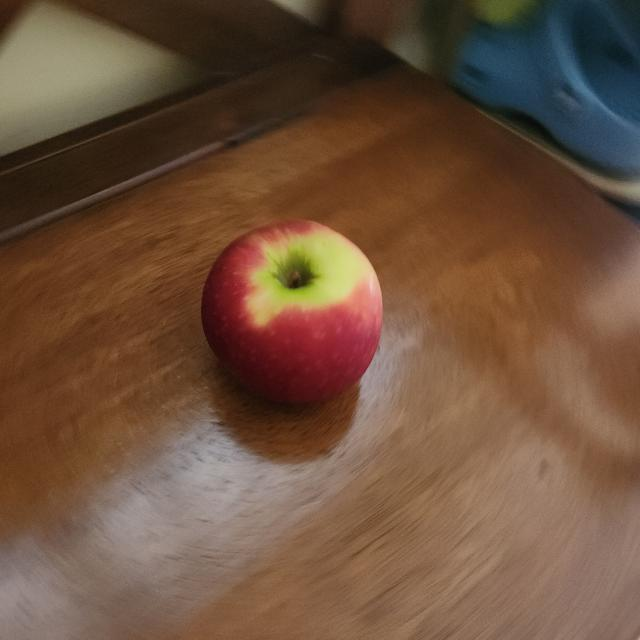apple: (202, 210, 384, 416)
